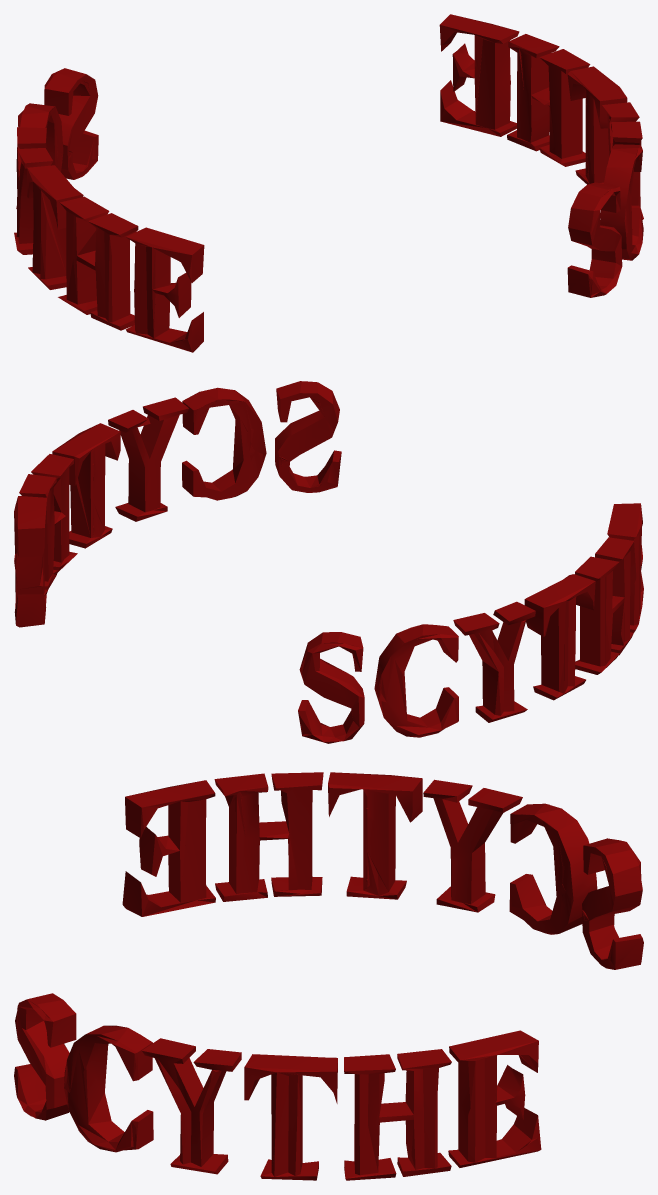
The model's file is napisy.glb.
The picture shows the model from 3 angles, top to bottom: view 1: azimuth 30°, elevation 25°; view 2: azimuth 150°, elevation 25°; view 3: azimuth 270°, elevation 25°; orthographic projection. The views are drawn at different scales.
Parts seen in each view (by area): view 1: model (×2); view 2: model (×2); view 3: model (×2).
Boxes of the visible parts, x1,y1,x2,y2 form: model (×2): (14,14,643,352); model (×2): (14,381,643,743); model (×2): (14,772,643,1180).
Size of the model in its own units: 2.04 by 0.3669 by 1.8.
